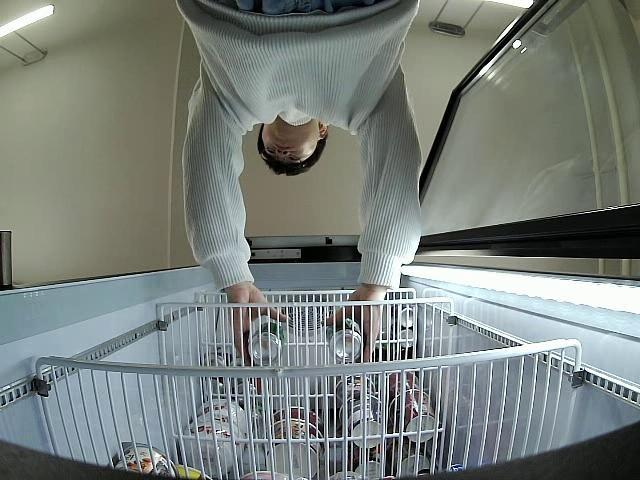12_chilsungCider: (325, 320, 363, 361), (249, 322, 284, 363)
